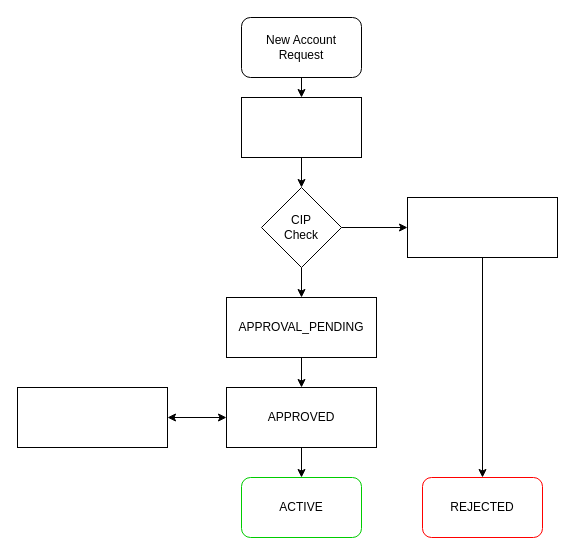
This 575x555 diagram has some shape labels left out. Each missing label, with the centre of its shape:
"ACTION_REQUIRED" goes at point (482, 227).
"SUBMISSION_FAILED" goes at point (92, 417).
"SUBMITTED" goes at point (301, 127).
